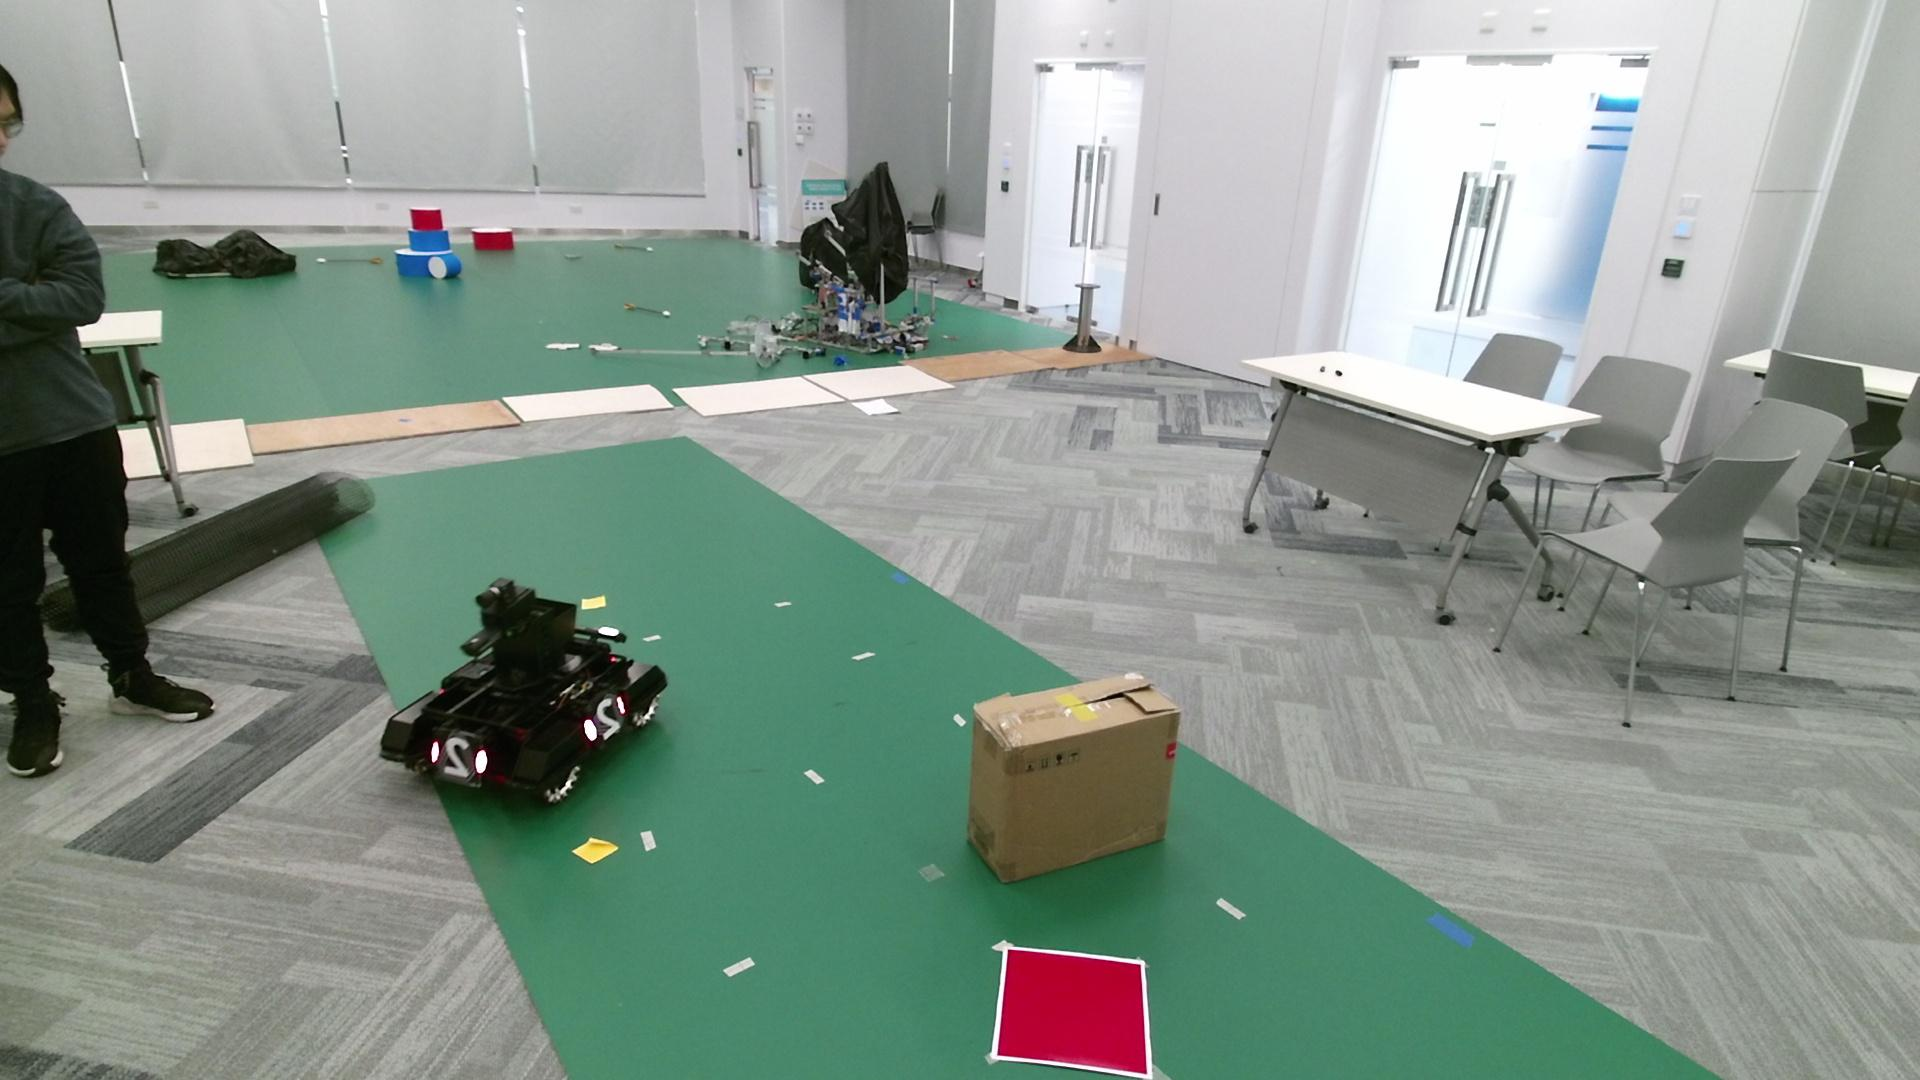robot: (378, 575, 669, 804)
